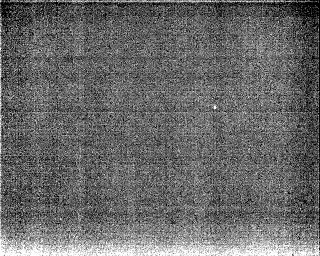BIRD: (211, 103, 219, 111)
